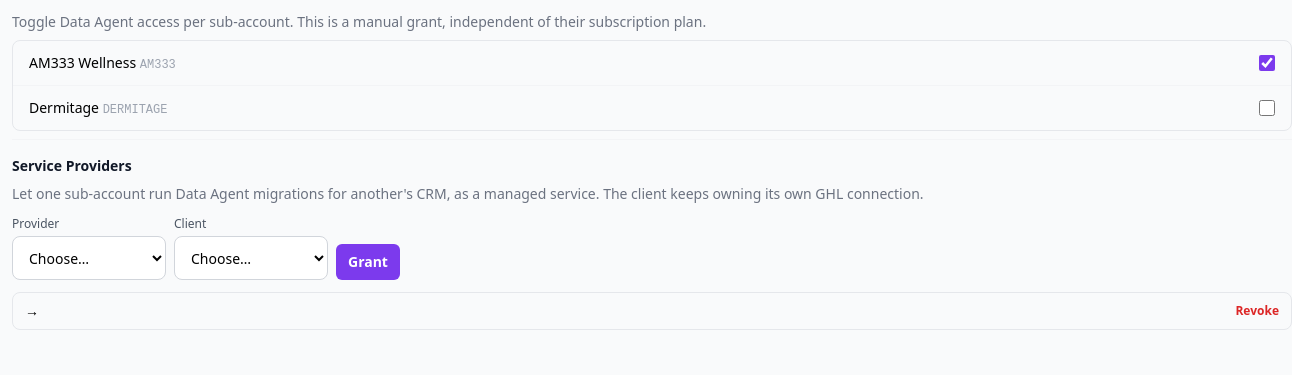
Test: DataAgentEntitlementsTab › surfaces an upsert error without flipping the checkbox
expect the text "Dermitage" is shown: met, box [29,98,99,117]
Click the checkbox labelled "Dermitage DERMITAGE".
click(1267, 108)  # box [1259,100,1275,116]
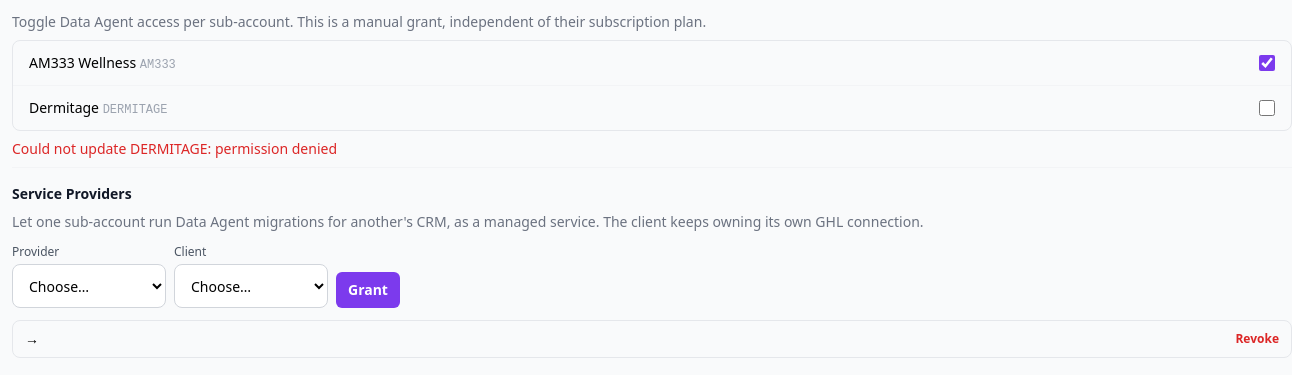
expect the message shows "permission denied": met, box [12,139,337,158]
